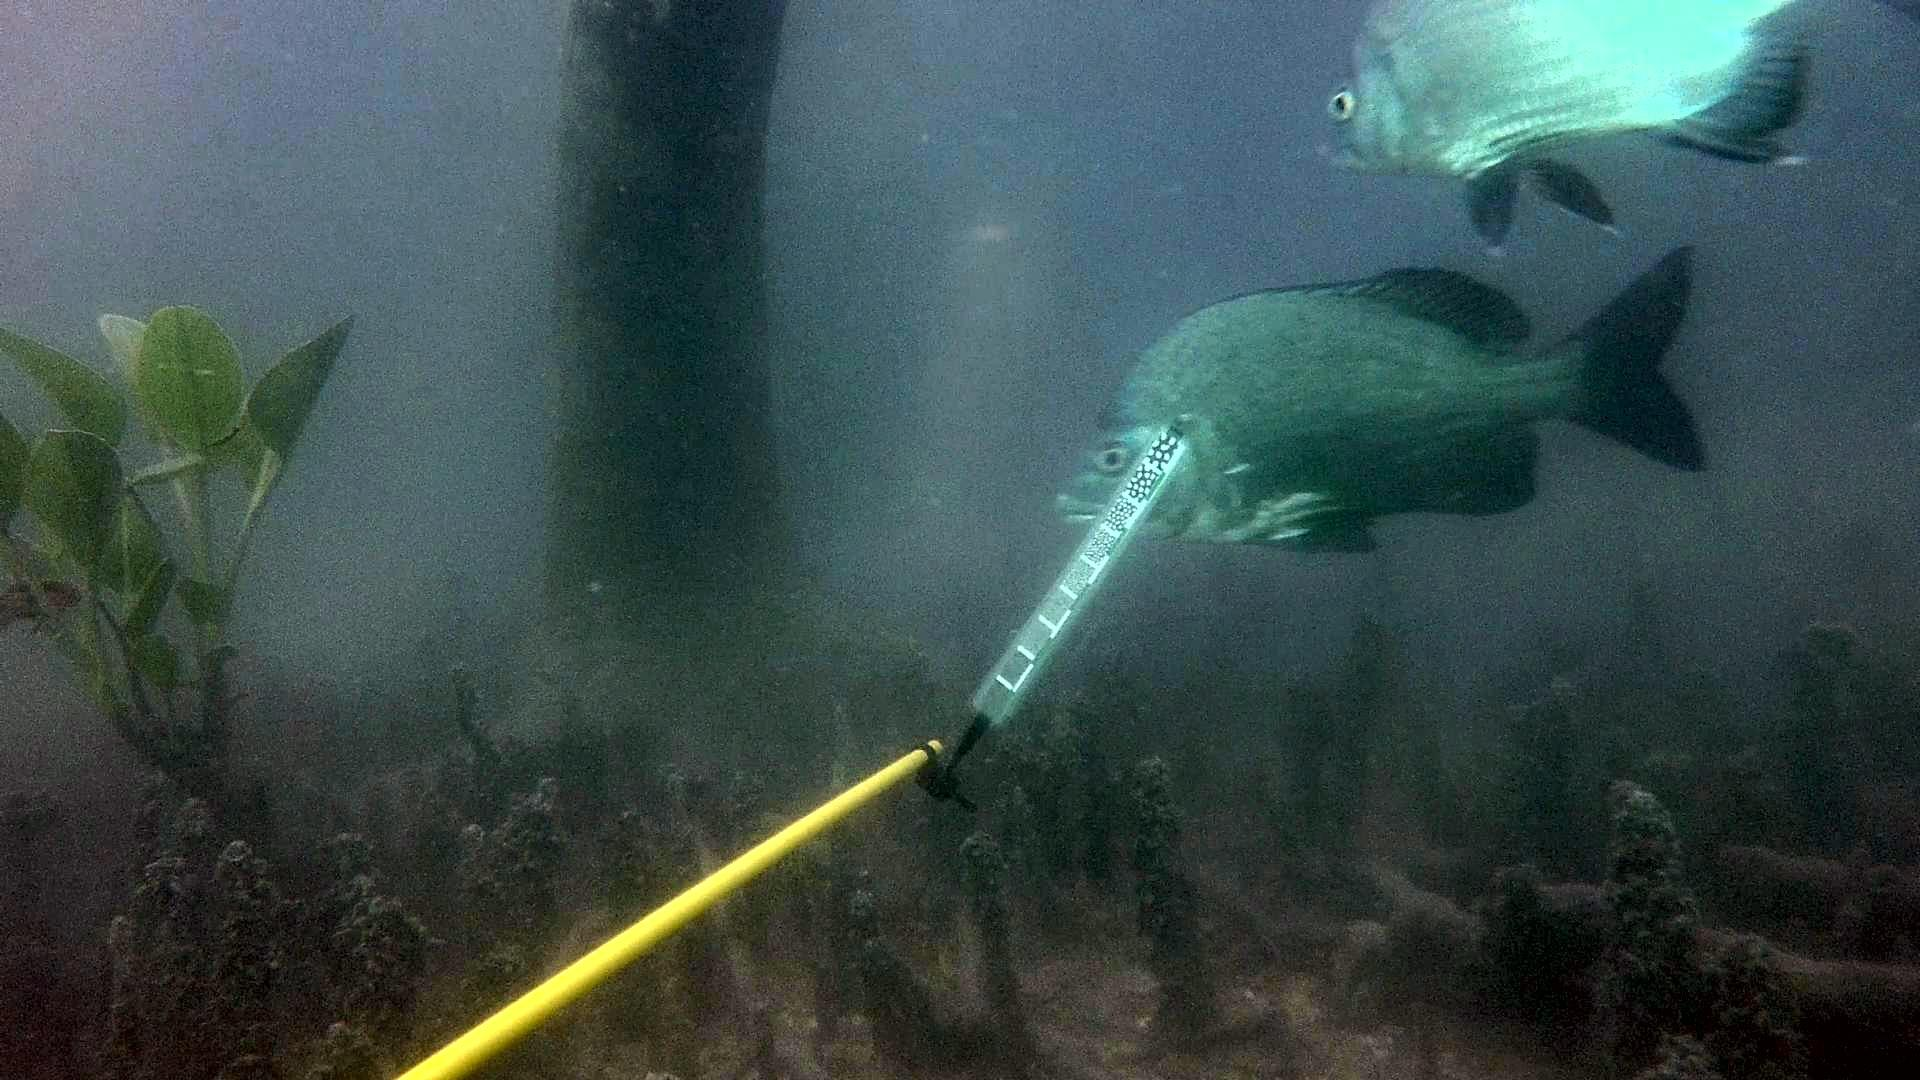acanthopagrus palmaris: (1041, 231, 1727, 564), (1303, 0, 1920, 272)
